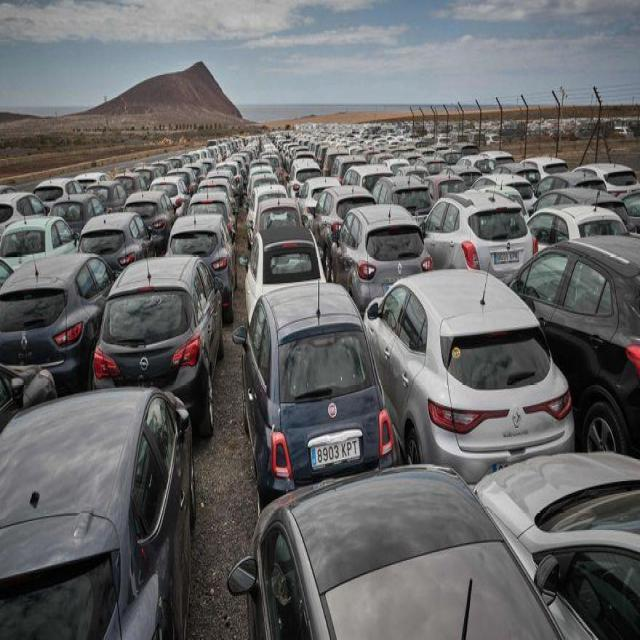License-Plate: (310, 435, 362, 469), (492, 248, 520, 264)
